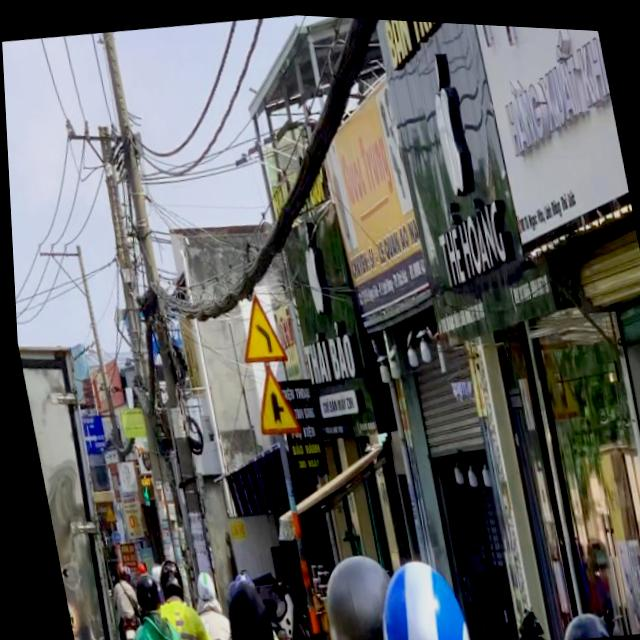Giao nhau voi duong khong uu tien ben phai: (240, 358, 303, 444)
cho ngoat nguy hiem vong ben trai: (226, 285, 287, 367)
